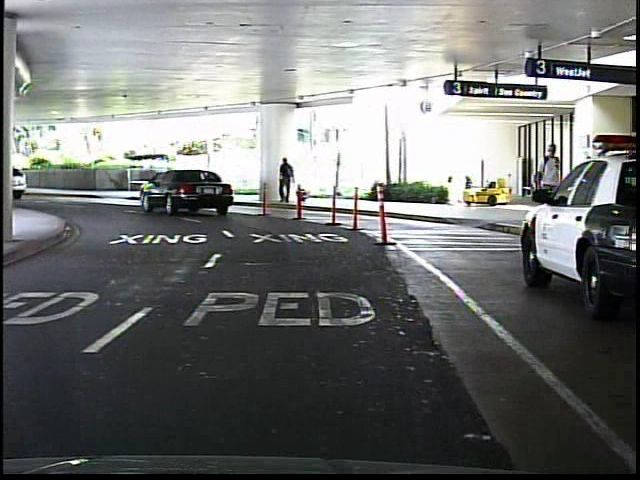person: (533, 140, 563, 235), (273, 157, 301, 209)
